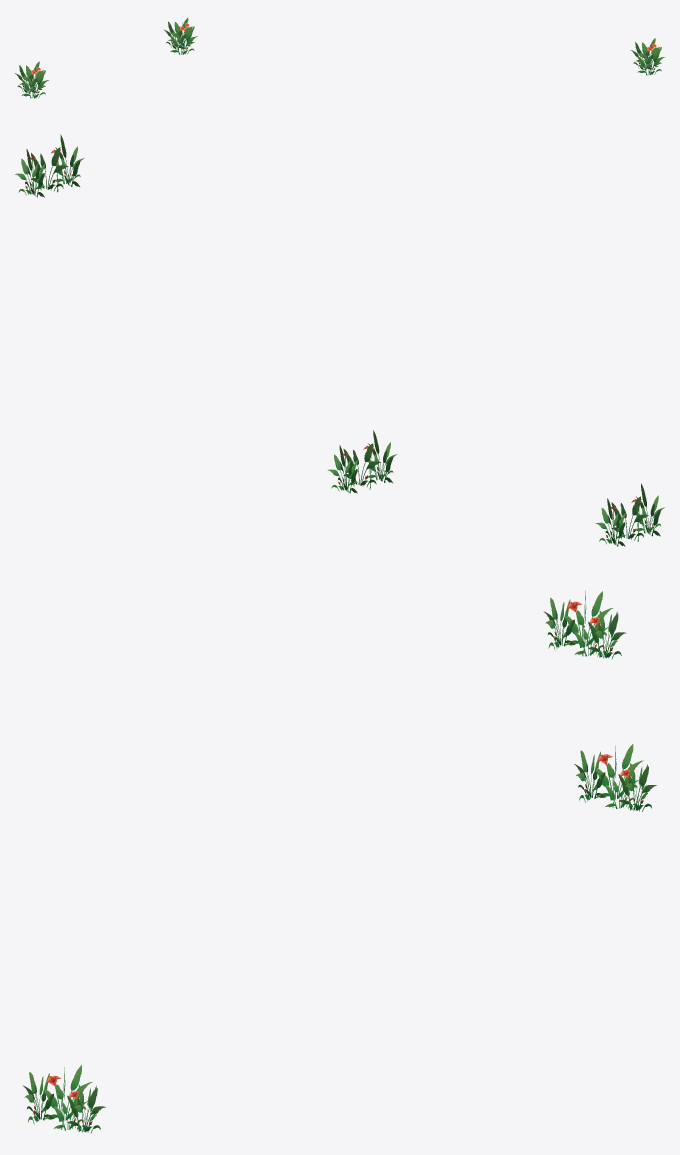
Rendered from area_11_12.fbx.
The picture shows the model from 3 angles, top to bottom: view 1: azimuth 30°, elevation 25°; view 2: azimuth 150°, elevation 25°; view 3: azimuth 270°, elevation 25°; orthographic projection. The views are drawn at different scales.
Visible parts, largest first — view 1: area_11_12; view 2: area_11_12; view 3: area_11_12.
Boxes of the visible parts, x1,y1,x2,y2 form: area_11_12: (15,18,665,98); area_11_12: (15,134,664,546); area_11_12: (23,590,656,1133).
Size of the model in its own units: 29.31 by 1.55 by 15.64.
